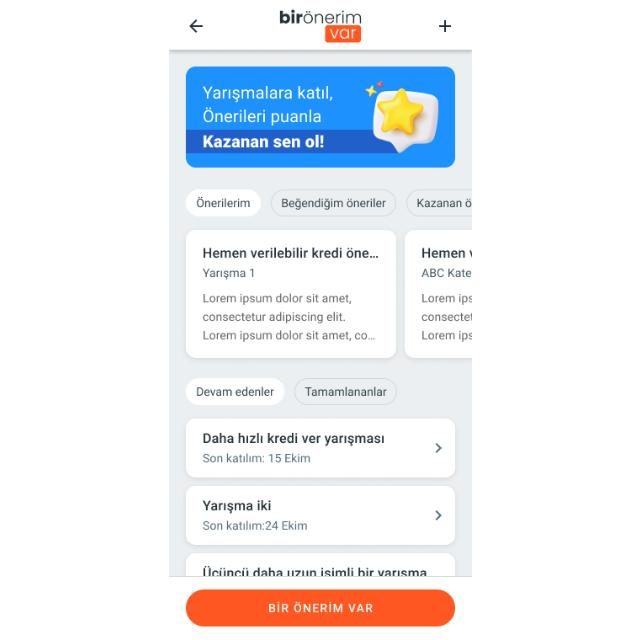QLabel: (198, 290, 378, 346), (198, 244, 380, 262), (199, 431, 385, 447), (198, 562, 426, 574), (417, 292, 471, 342), (262, 597, 374, 617), (198, 518, 308, 534), (199, 452, 311, 466), (277, 196, 389, 210), (192, 384, 278, 401), (302, 386, 388, 400), (197, 498, 273, 512), (198, 264, 255, 280), (414, 244, 471, 260), (192, 196, 250, 210), (414, 266, 472, 280), (414, 196, 471, 210)
VAppBar: (168, 0, 472, 50)
VBtn: (186, 588, 454, 628)
VCard: (185, 230, 398, 360), (403, 230, 471, 358), (184, 553, 454, 575)
VChip: (270, 189, 396, 217), (184, 377, 284, 408), (294, 378, 396, 406), (184, 190, 260, 217), (406, 188, 470, 218)
VExpansionPanel: (184, 418, 456, 479), (184, 486, 454, 546)
VFooter: (168, 576, 470, 640)
VIcon: (185, 18, 203, 34), (436, 20, 452, 34)
VImg: (185, 66, 455, 168), (274, 7, 364, 46)
